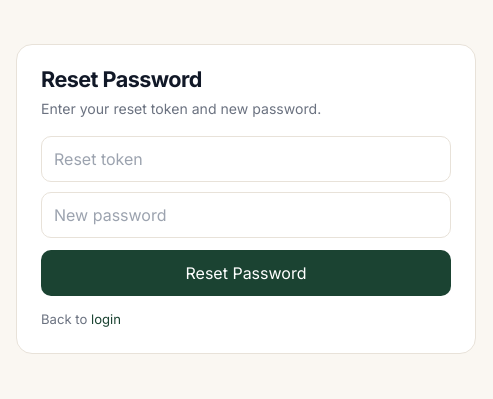
Test: ResetPassword page › shows fallback error when request fails
This screenshot has width=493, height=399.
Type "token-2" into the field with placeholder "Reset token" at (246, 158), box [41,136,451,182]
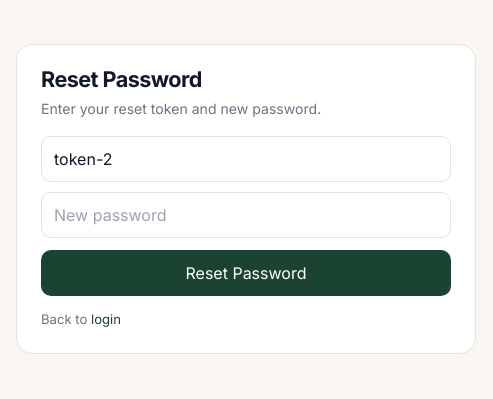
Type "newpassword" into the password field with placeholder "New password" at (246, 214), box [41,192,451,238]
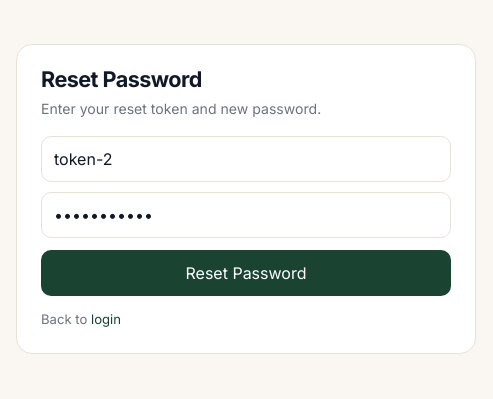
Click the button "Reset Password" at (246, 272), box [41,250,451,296]
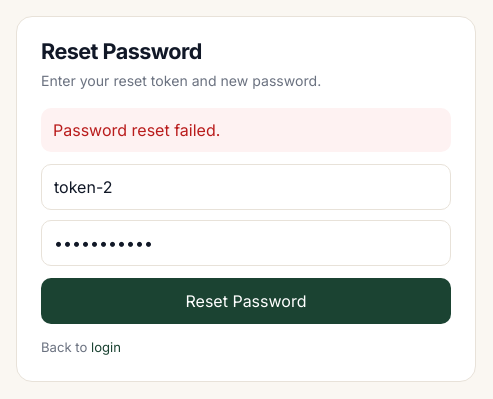
Now the text "Password reset failed." is shown, box [41,108,451,152]
